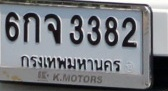num6: (3, 11, 21, 42)
txt01: (22, 11, 42, 45)
txt06: (43, 12, 63, 45)
